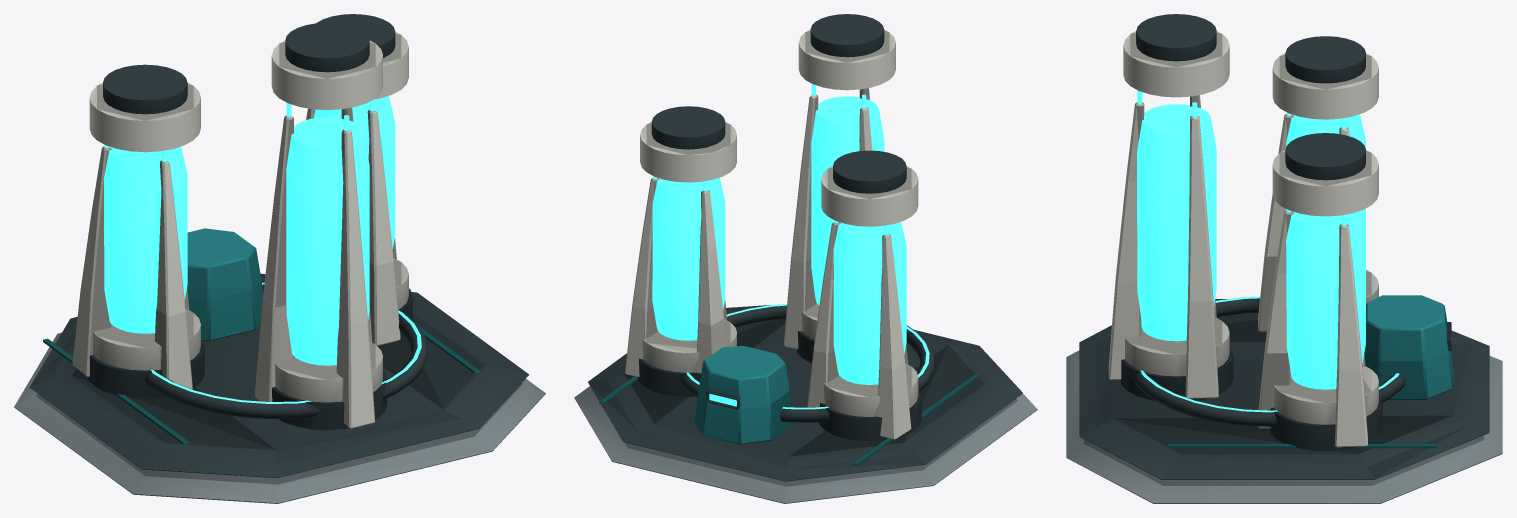
Rendered from FluxGenerator.glb.
3 views of the same model, side by side, from view 1: azimuth 30°, elevation 25°; view 2: azimuth 150°, elevation 25°; view 3: azimuth 270°, elevation 25° (orthographic). The views are drawn at different scales.
Parts seen in each view (by area): view 1: export_FluxGenerator_Foundation; view 2: export_FluxGenerator_Foundation; view 3: export_FluxGenerator_Foundation.
Boxes of the visible parts, box(x1,y1,x2,y2) form: export_FluxGenerator_Foundation: box(14, 14, 545, 503); export_FluxGenerator_Foundation: box(574, 14, 1037, 503); export_FluxGenerator_Foundation: box(1066, 14, 1502, 503).
Bounding box in the file's own units: 4.97 × 4.54 × 4.77.
